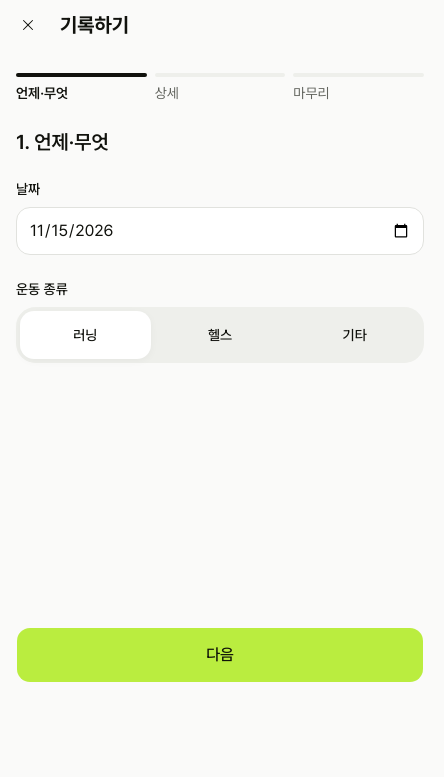
Test: WorkoutForm › 저장이 실패하면 서버 오류를 보여주고 화면에 머문다
The width and height of the screenshot is (444, 777).
Click the button "기타": {"x": 355, "y": 335} [289,311,420,359]
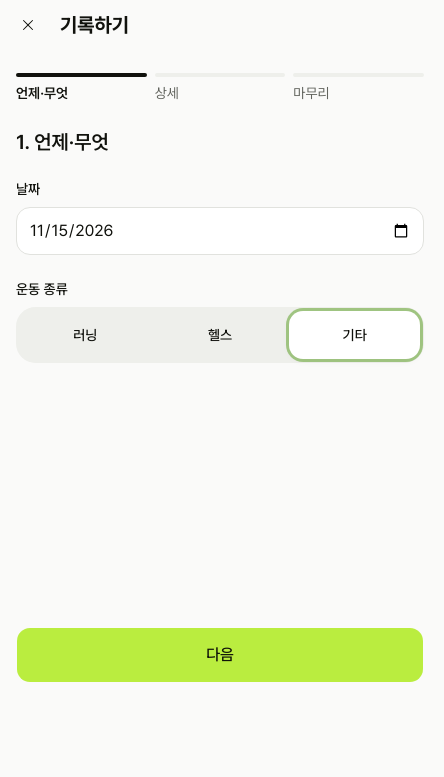
Click the button "다음": {"x": 220, "y": 655} [16,627,424,683]
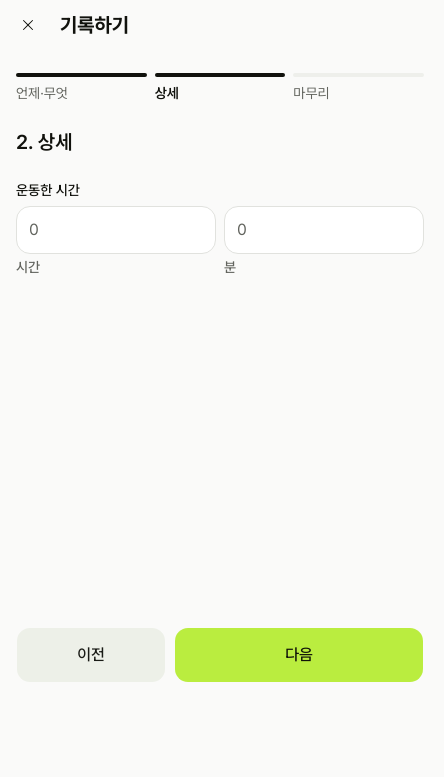
In the field labelled "분": {"x": 324, "y": 230} [224,206,424,254], type "30"
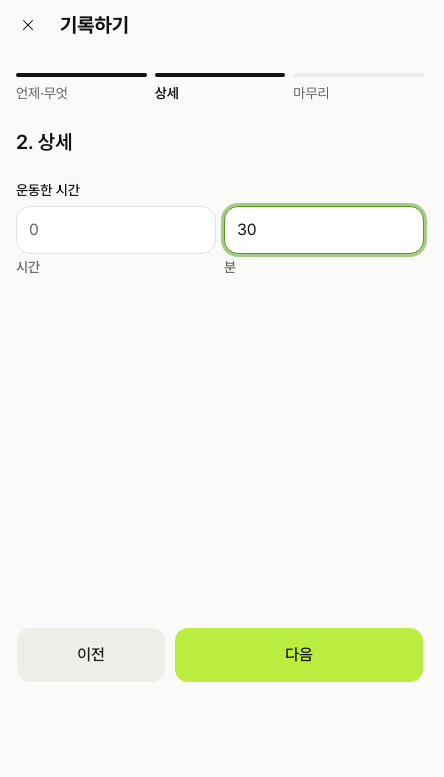
Click the button "다음": {"x": 299, "y": 655} [174,627,424,683]
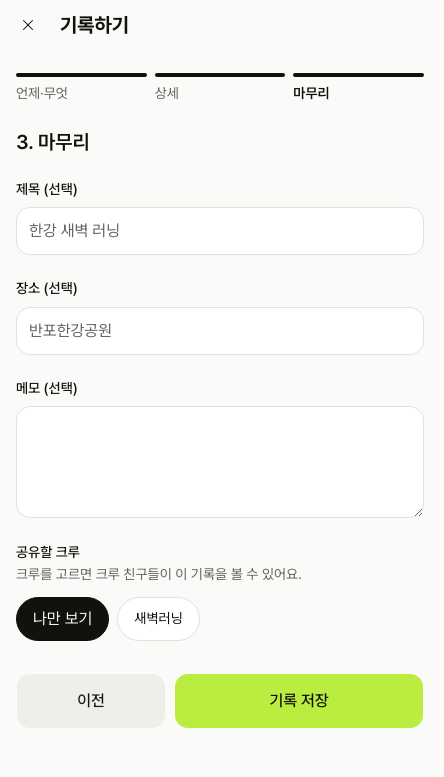
Click the button "기록 저장": {"x": 299, "y": 701} [174,673,424,729]
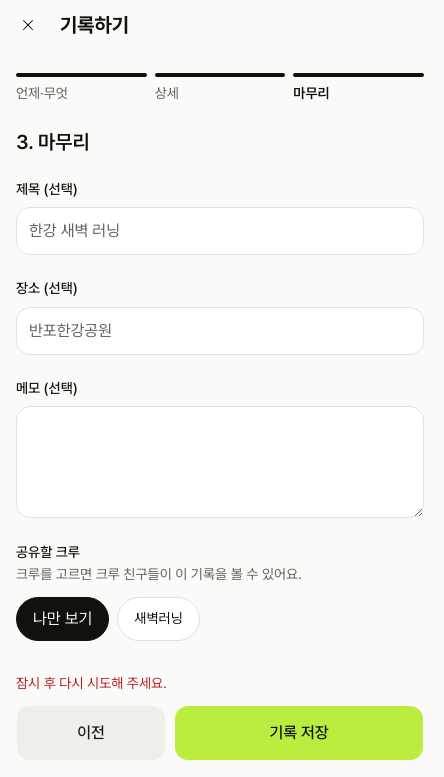
Check: the message reads "잠시 후 다시 시도해 주세요.", box [16,675,167,691]
